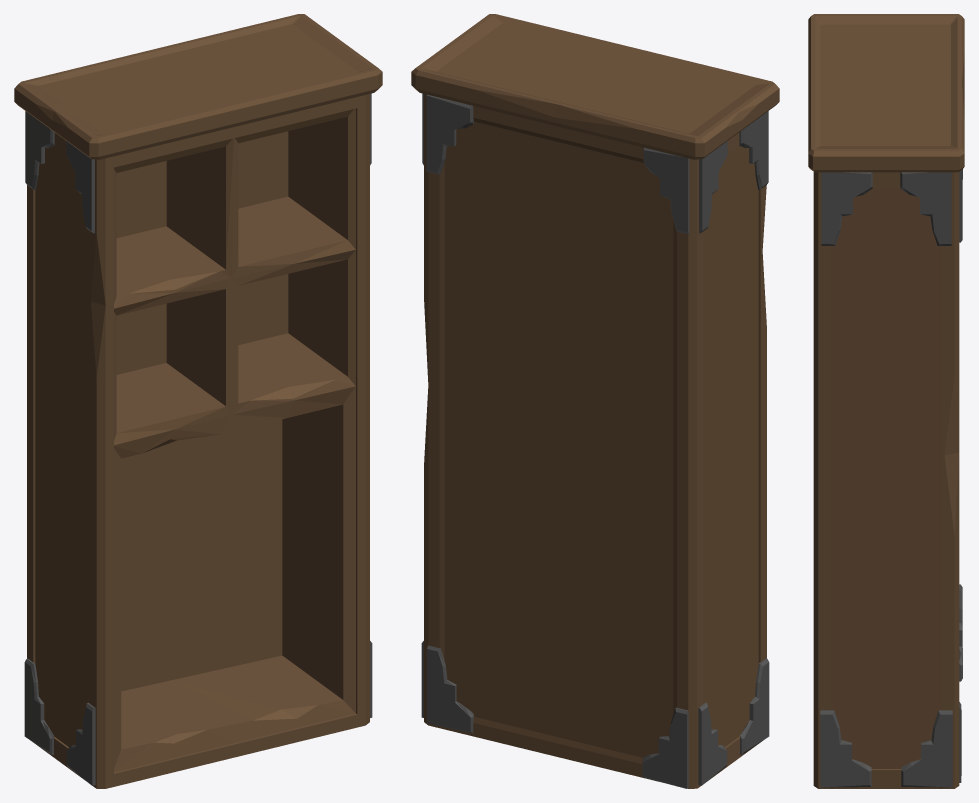
File: Shelving_003.fbx
The picture shows the model from 3 angles, left to right: view 1: azimuth 30°, elevation 25°; view 2: azimuth 150°, elevation 25°; view 3: azimuth 270°, elevation 25°; orthographic projection. The views are drawn at different scales.
Parts seen in each view (by area): view 1: Shelving_003; view 2: Shelving_003; view 3: Shelving_003.
Part boxes in pixels (<box>): Shelving_003: <box>14,14,382,788</box>; Shelving_003: <box>411,14,779,788</box>; Shelving_003: <box>808,14,964,788</box>.
Bounding box in the file's own units: 1.33 × 2.83 × 0.626.
